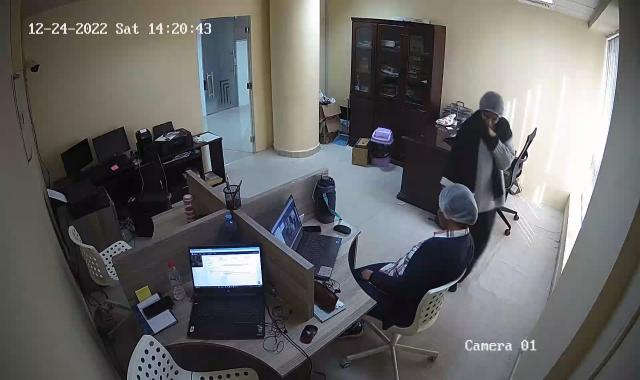hairnet: (441, 184, 477, 224), (477, 91, 504, 130)
